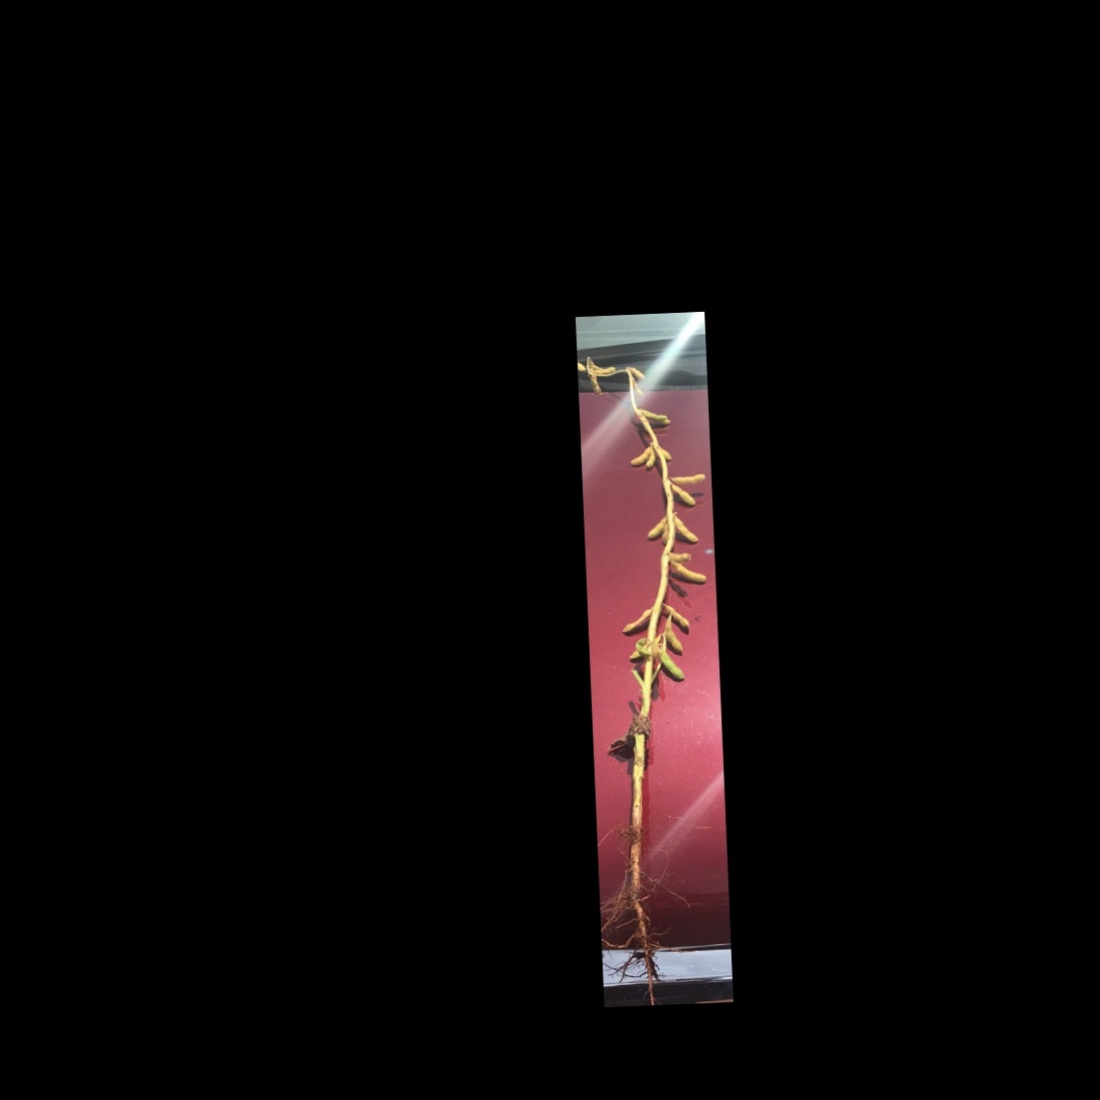pod: (667, 560, 710, 587), (672, 513, 705, 547), (658, 647, 686, 687), (662, 612, 686, 657), (621, 605, 654, 634), (670, 483, 697, 509), (666, 472, 709, 486), (587, 375, 605, 398), (628, 363, 650, 381), (631, 376, 645, 398), (660, 520, 671, 548)
soy: (577, 349, 725, 864)
